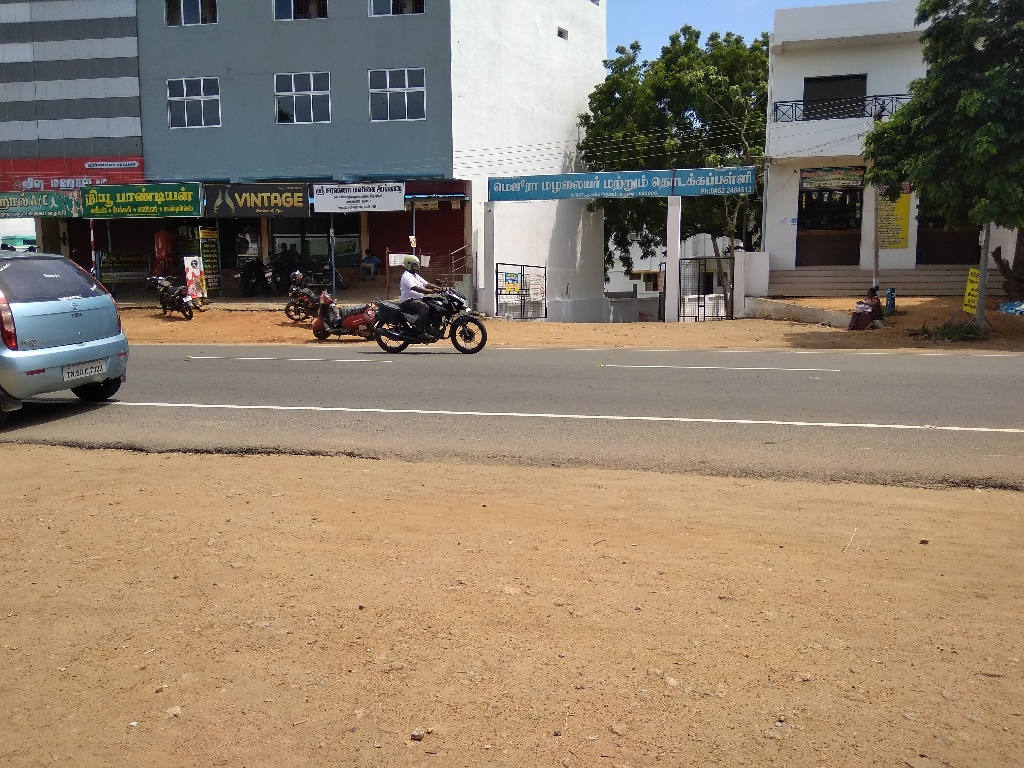biker: (362, 231, 494, 358)
helmet: (398, 249, 426, 279)
